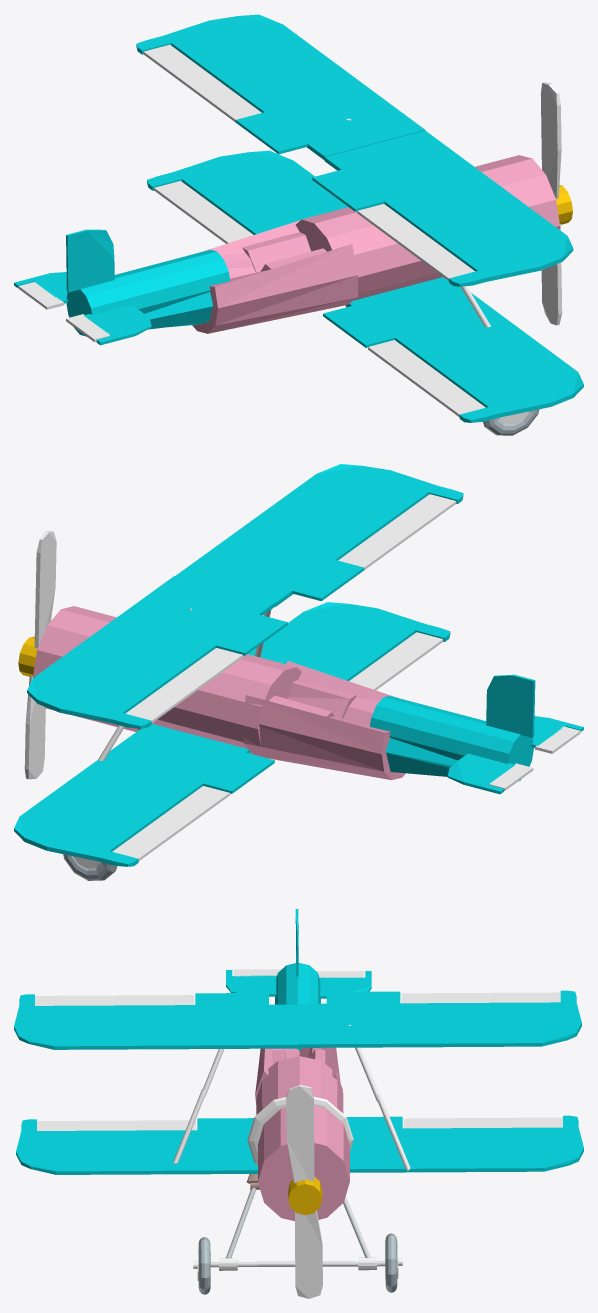
The model's file is Airplane.fbx.
3 views of the same model, one above another, from view 1: azimuth 30°, elevation 25°; view 2: azimuth 150°, elevation 25°; view 3: azimuth 270°, elevation 25° (orthographic). The views are drawn at different scales.
Parts seen in each view (by area): view 1: Frame, Blades; view 2: Frame, Blades; view 3: Frame, Blades.
Part boxes in pixels (box(x1,y1,x2,y2)): Frame: box(14, 14, 583, 435); Blades: box(540, 82, 572, 325); Frame: box(14, 464, 583, 880); Blades: box(18, 531, 56, 779); Frame: box(14, 909, 583, 1294); Blades: box(286, 1085, 322, 1298).
Bounding box in the file's own units: 385 × 207 × 434.
